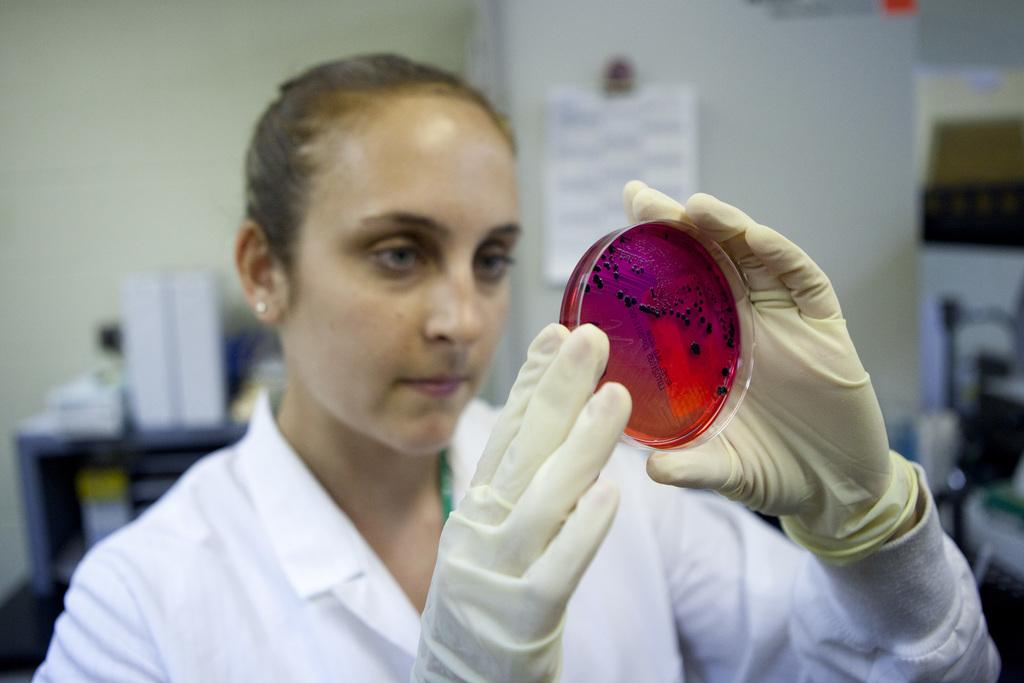Sem Máscara: (278, 102, 525, 456)
